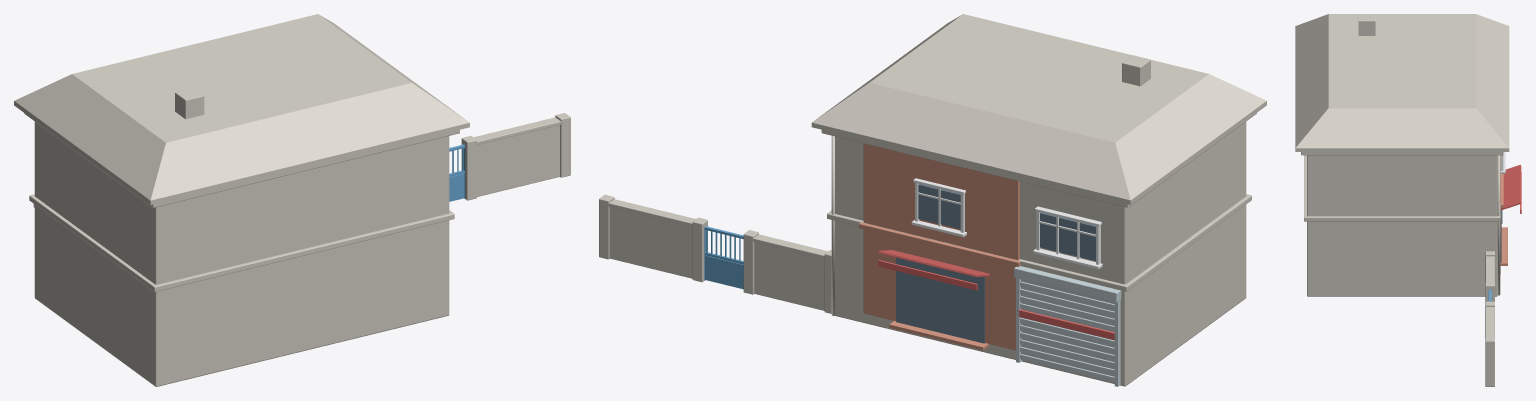
The model's file is Hamidiye_EyyubiBufeBlock.fbx.
The picture shows the model from 3 angles, left to right: view 1: azimuth 30°, elevation 25°; view 2: azimuth 150°, elevation 25°; view 3: azimuth 270°, elevation 25°; orthographic projection. The views are drawn at different scales.
Parts seen in each view (by area): view 1: Eyyubi_MainHouse, Eyyubi_GardenWallR, Eyyubi_BlueGate; view 2: Eyyubi_MainHouse, Eyyubi_TerraClad, Eyyubi_ShutterL, Eyyubi_BufeGlass, Eyyubi_GardenWallR, Eyyubi_GardenWallL, Eyyubi_ShutterRed, Eyyubi_BlueGate, Eyyubi_UpperWinL, Eyyubi_UpperWin; view 3: Eyyubi_MainHouse, Eyyubi_GardenWallR, Eyyubi_ShutterRed, Eyyubi_GardenWallL, Eyyubi_TerraClad.
Boxes of the visible parts, bbox=[...] form: Eyyubi_MainHouse: bbox=[14, 14, 469, 386]; Eyyubi_GardenWallR: bbox=[461, 113, 570, 200]; Eyyubi_BlueGate: bbox=[449, 144, 465, 201]; Eyyubi_MainHouse: bbox=[811, 14, 1266, 386]; Eyyubi_TerraClad: bbox=[859, 143, 1020, 350]; Eyyubi_ShutterL: bbox=[1014, 266, 1121, 386]; Eyyubi_BufeGlass: bbox=[896, 184, 1095, 343]; Eyyubi_GardenWallR: bbox=[599, 194, 707, 282]; Eyyubi_GardenWallL: bbox=[743, 230, 831, 313]; Eyyubi_ShutterRed: bbox=[878, 250, 1115, 339]; Eyyubi_BlueGate: bbox=[704, 226, 743, 289]; Eyyubi_UpperWinL: bbox=[1033, 206, 1102, 269]; Eyyubi_UpperWin: bbox=[911, 178, 966, 237]; Eyyubi_MainHouse: bbox=[1295, 14, 1509, 296]; Eyyubi_GardenWallR: bbox=[1485, 301, 1494, 386]; Eyyubi_ShutterRed: bbox=[1500, 164, 1521, 213]; Eyyubi_GardenWallL: bbox=[1485, 251, 1494, 301]; Eyyubi_TerraClad: bbox=[1500, 155, 1507, 274].
Size of the model in its own units: 19.54 by 8.56 by 9.01.
